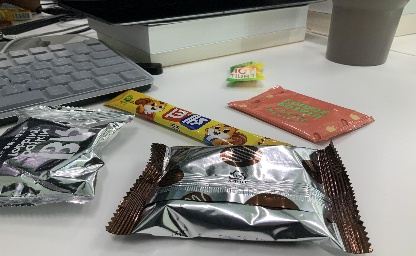br: (1, 101, 137, 212)
jeli: (224, 57, 269, 89)
jt: (102, 87, 304, 168)
mon: (105, 135, 375, 253)
pota: (228, 83, 378, 144)
